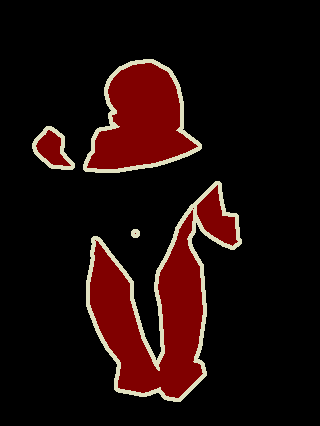person: (36, 57, 242, 400)
